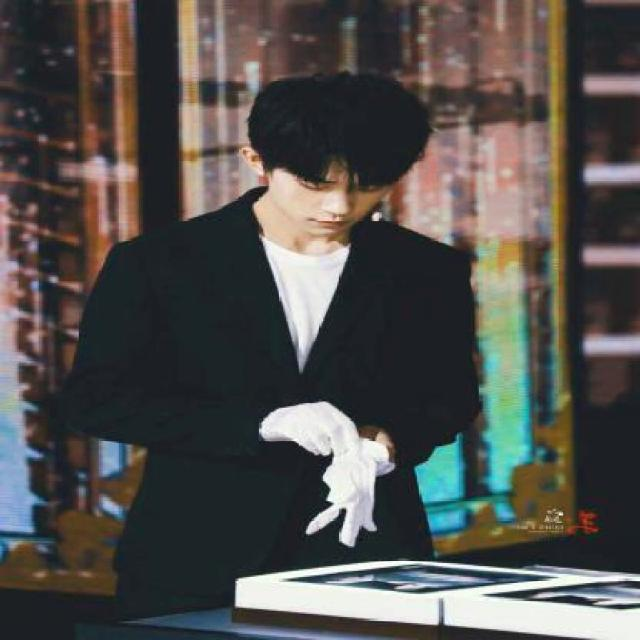face_nomask: (268, 155, 392, 237)
hand_glove: (299, 457, 383, 546), (274, 401, 361, 457)
head_nohelmet: (240, 68, 432, 170)
person: (44, 67, 479, 640)
